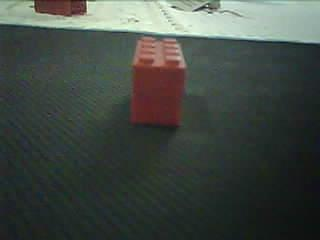lego: (130, 35, 187, 126), (34, 1, 87, 16)
